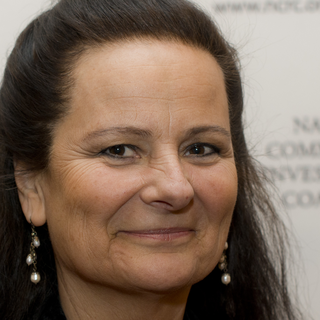eye: (94, 138, 146, 164), (176, 138, 229, 161)
